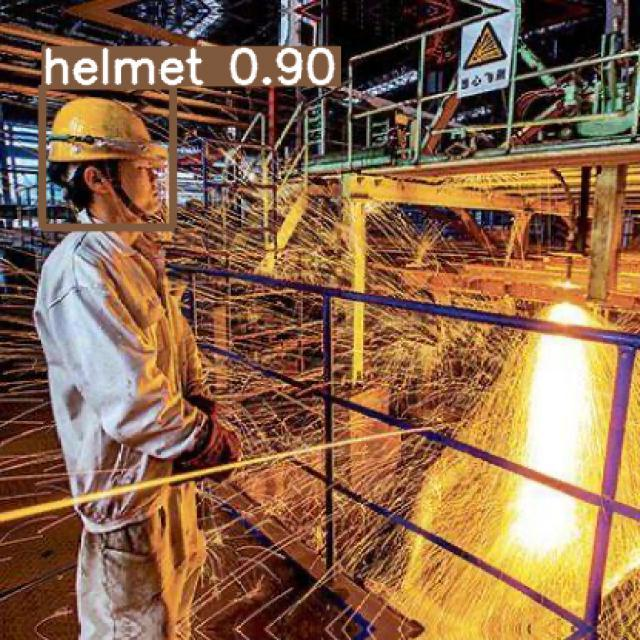Helmet: (45, 95, 164, 165)
